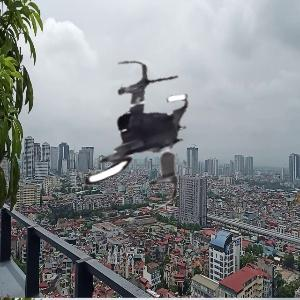drone: (49, 56, 213, 220)
